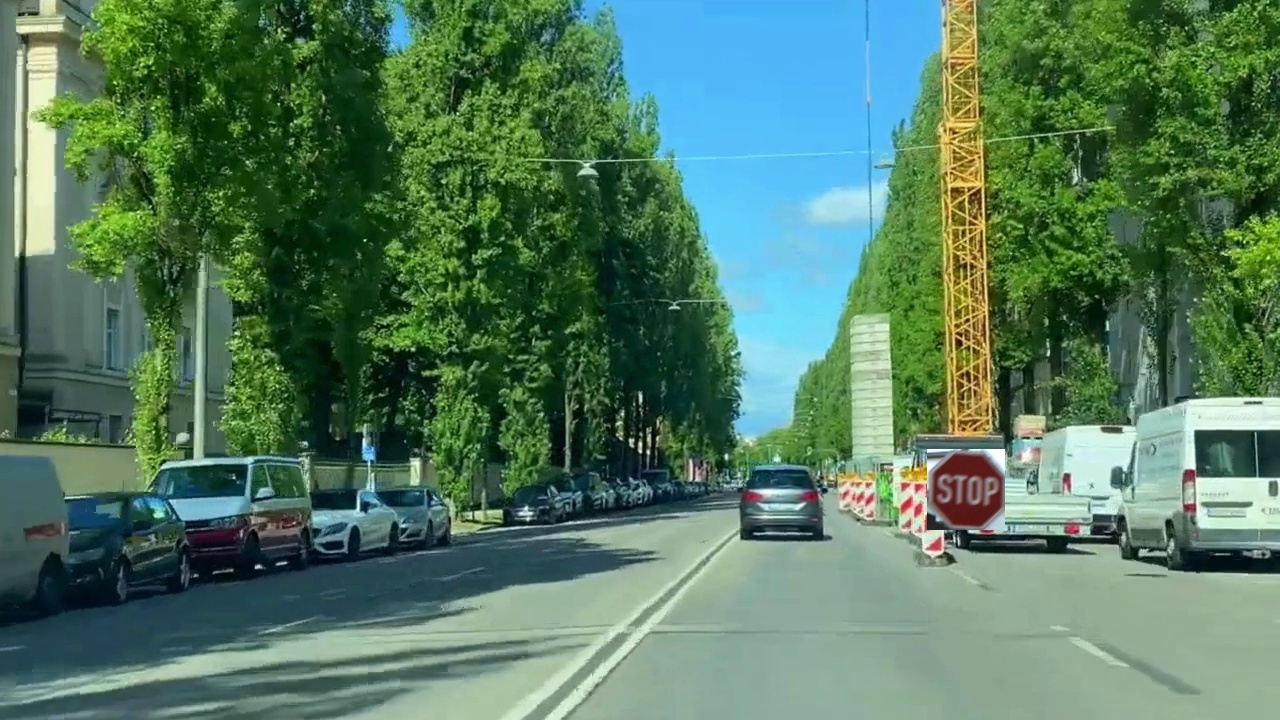Stop: (927, 449, 1005, 530)
